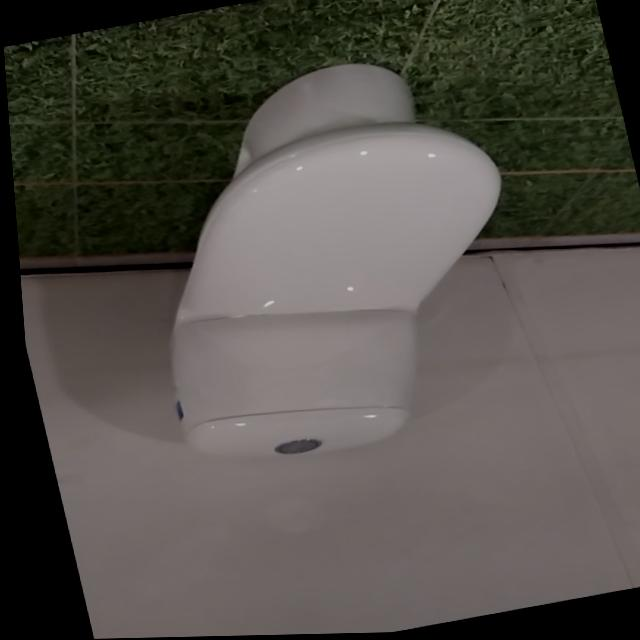toilet: (100, 42, 555, 480)
